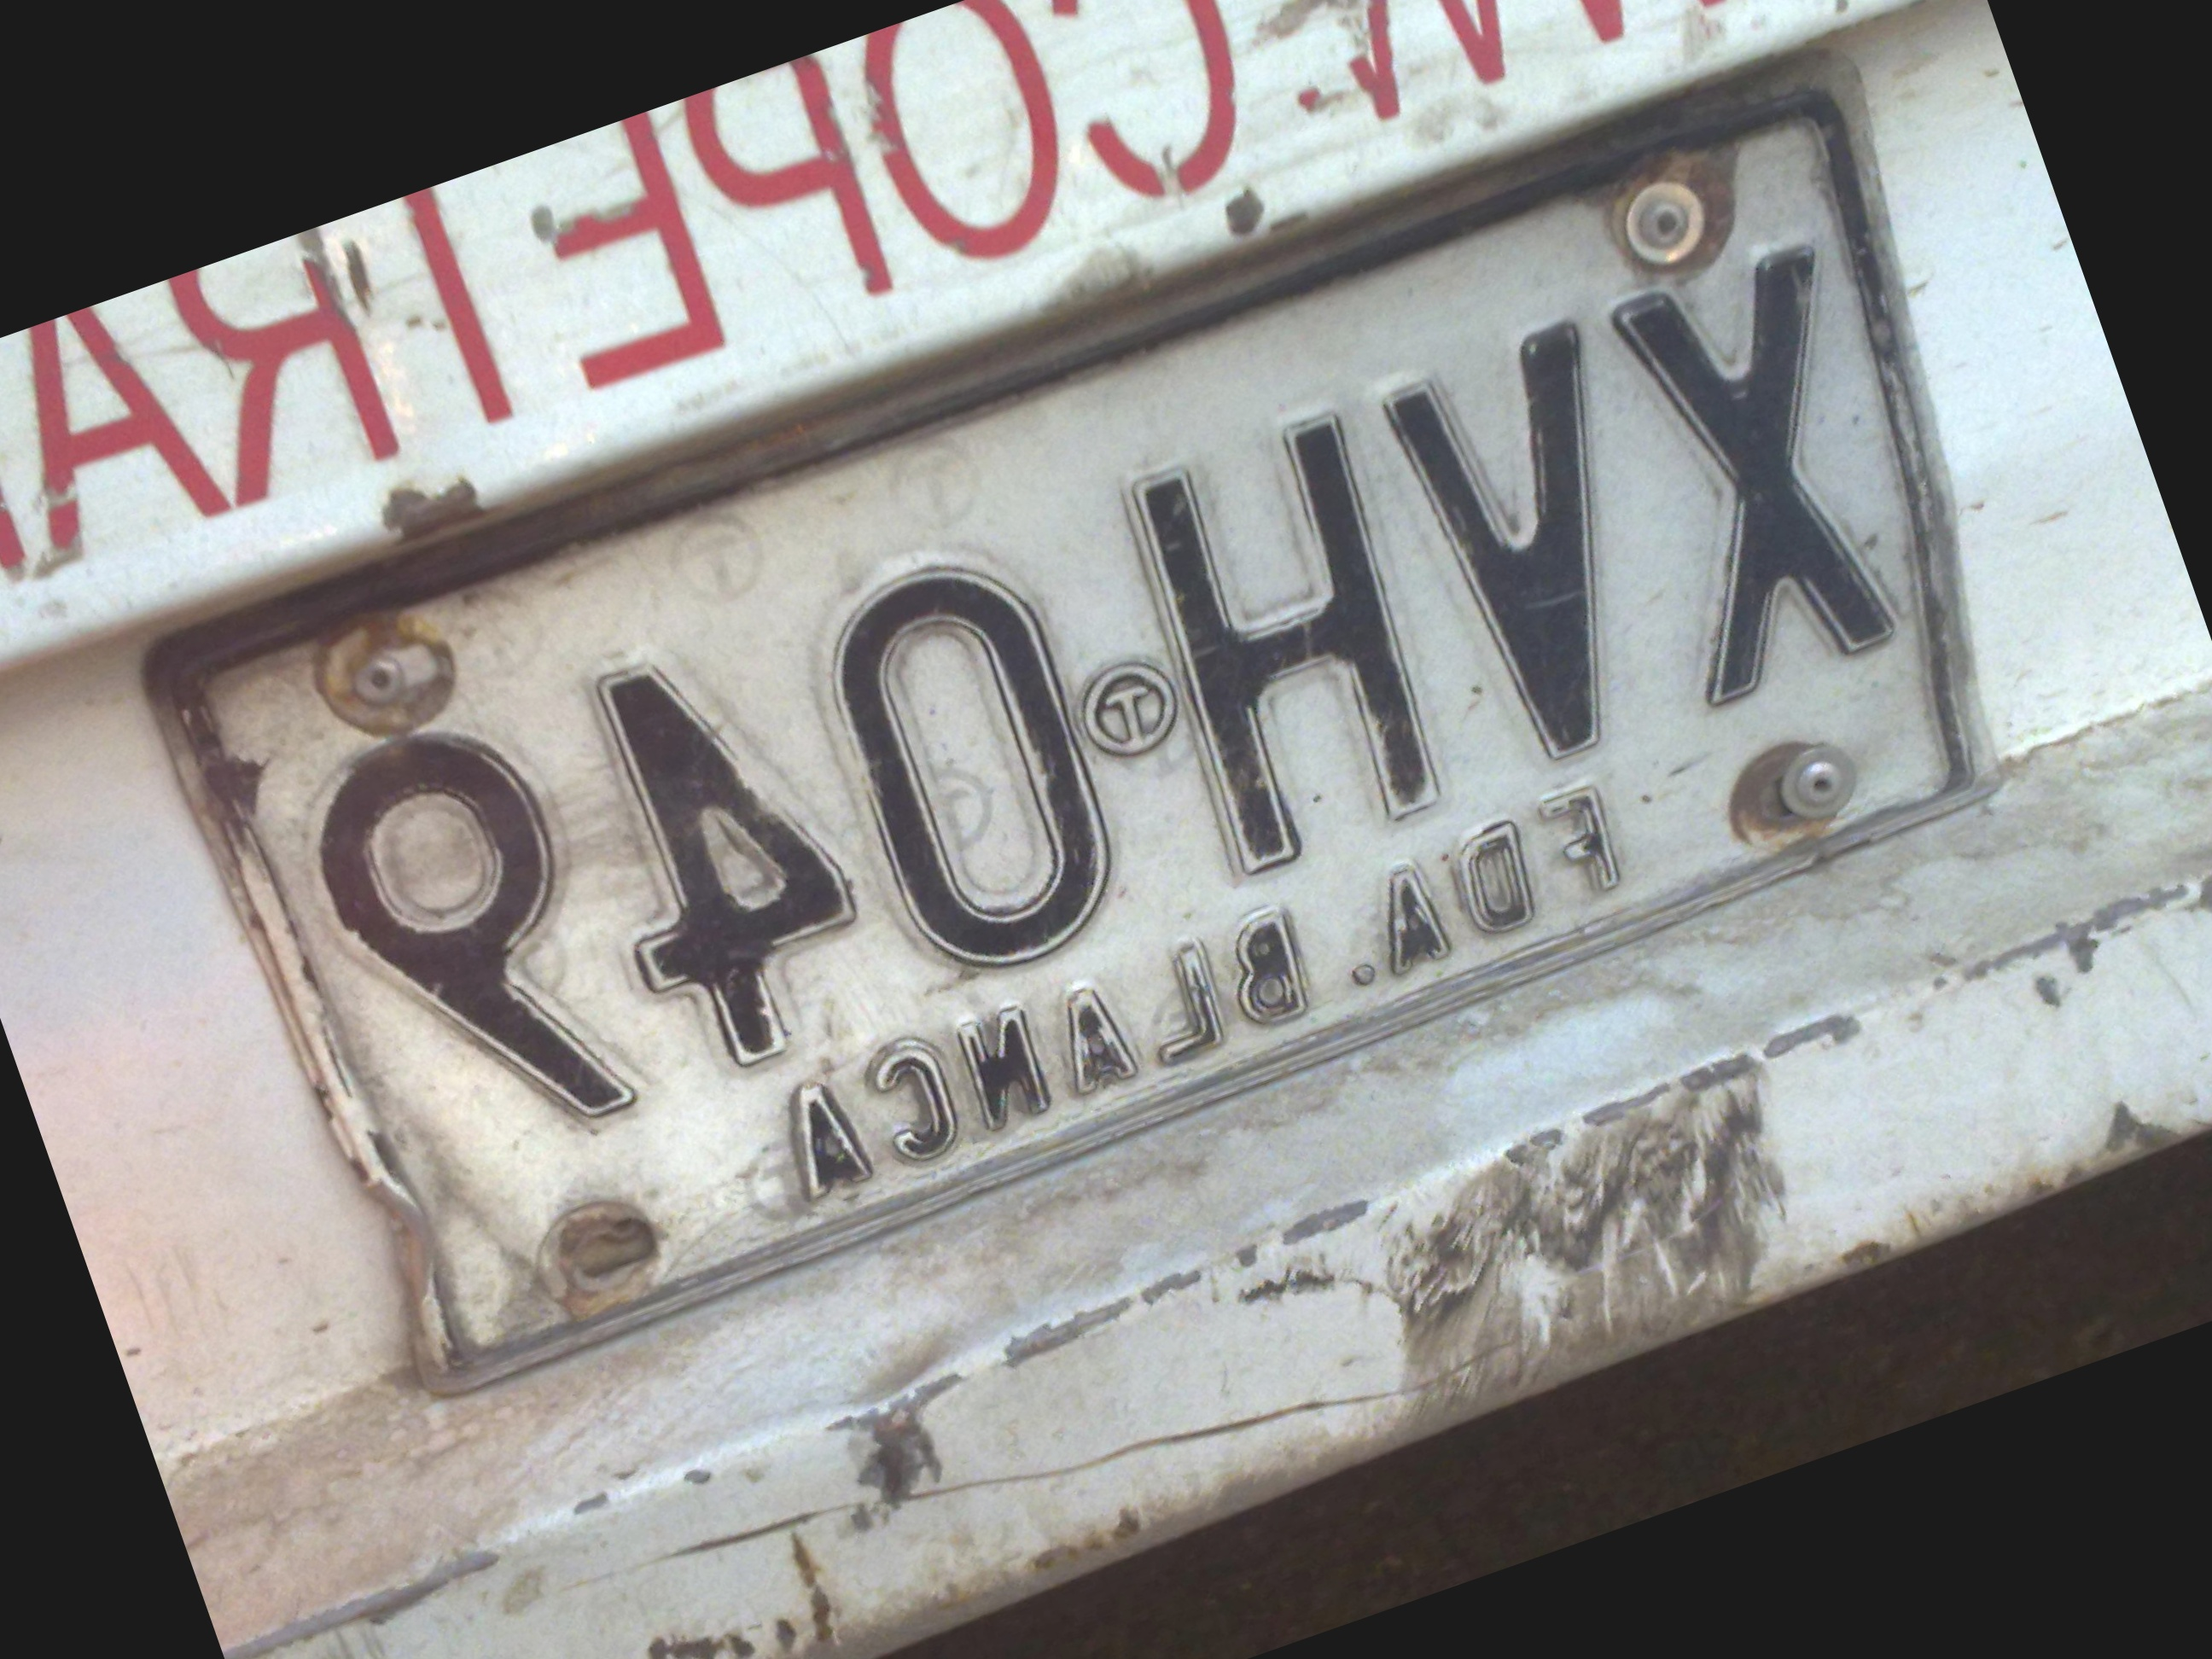placas: (124, 65, 2084, 1400)
